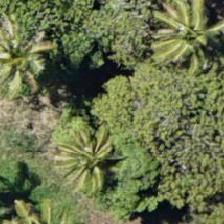coconut_tree: (42, 109, 132, 199), (0, 21, 67, 111), (148, 0, 223, 75)
